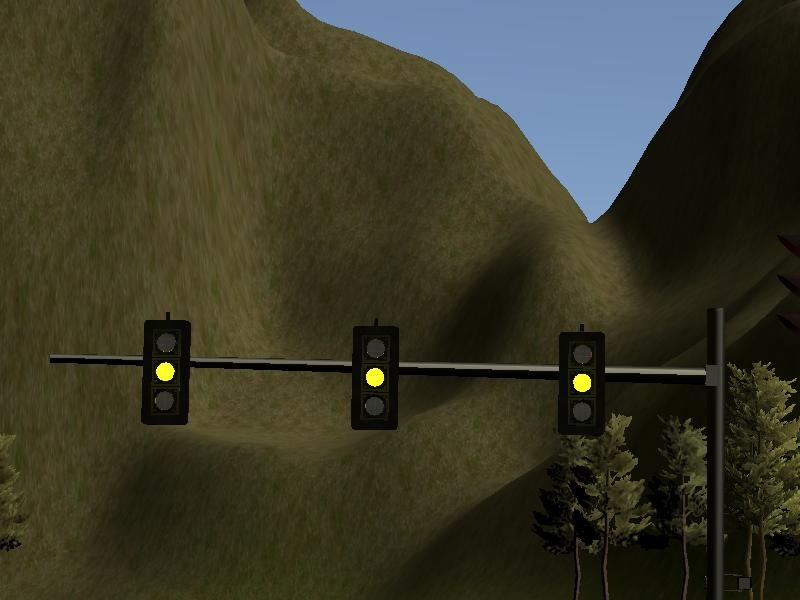YELLOW: (138, 315, 192, 425), (557, 333, 608, 437), (348, 323, 399, 427)
